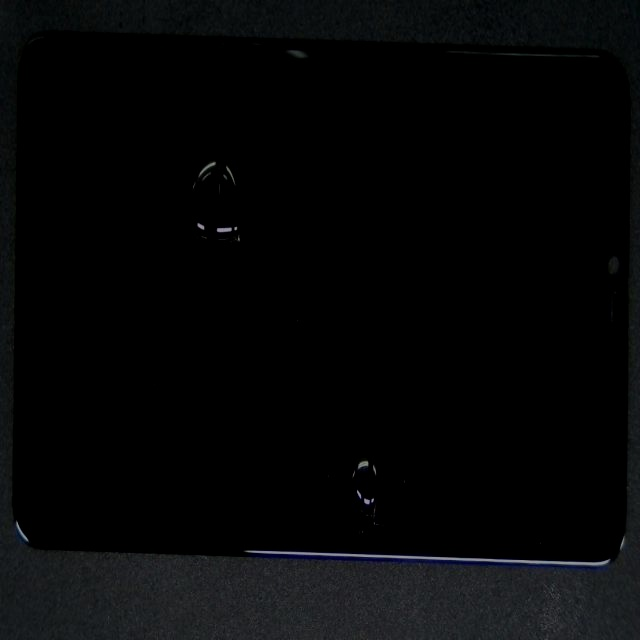oil: (183, 199, 533, 640), (138, 127, 359, 283)
